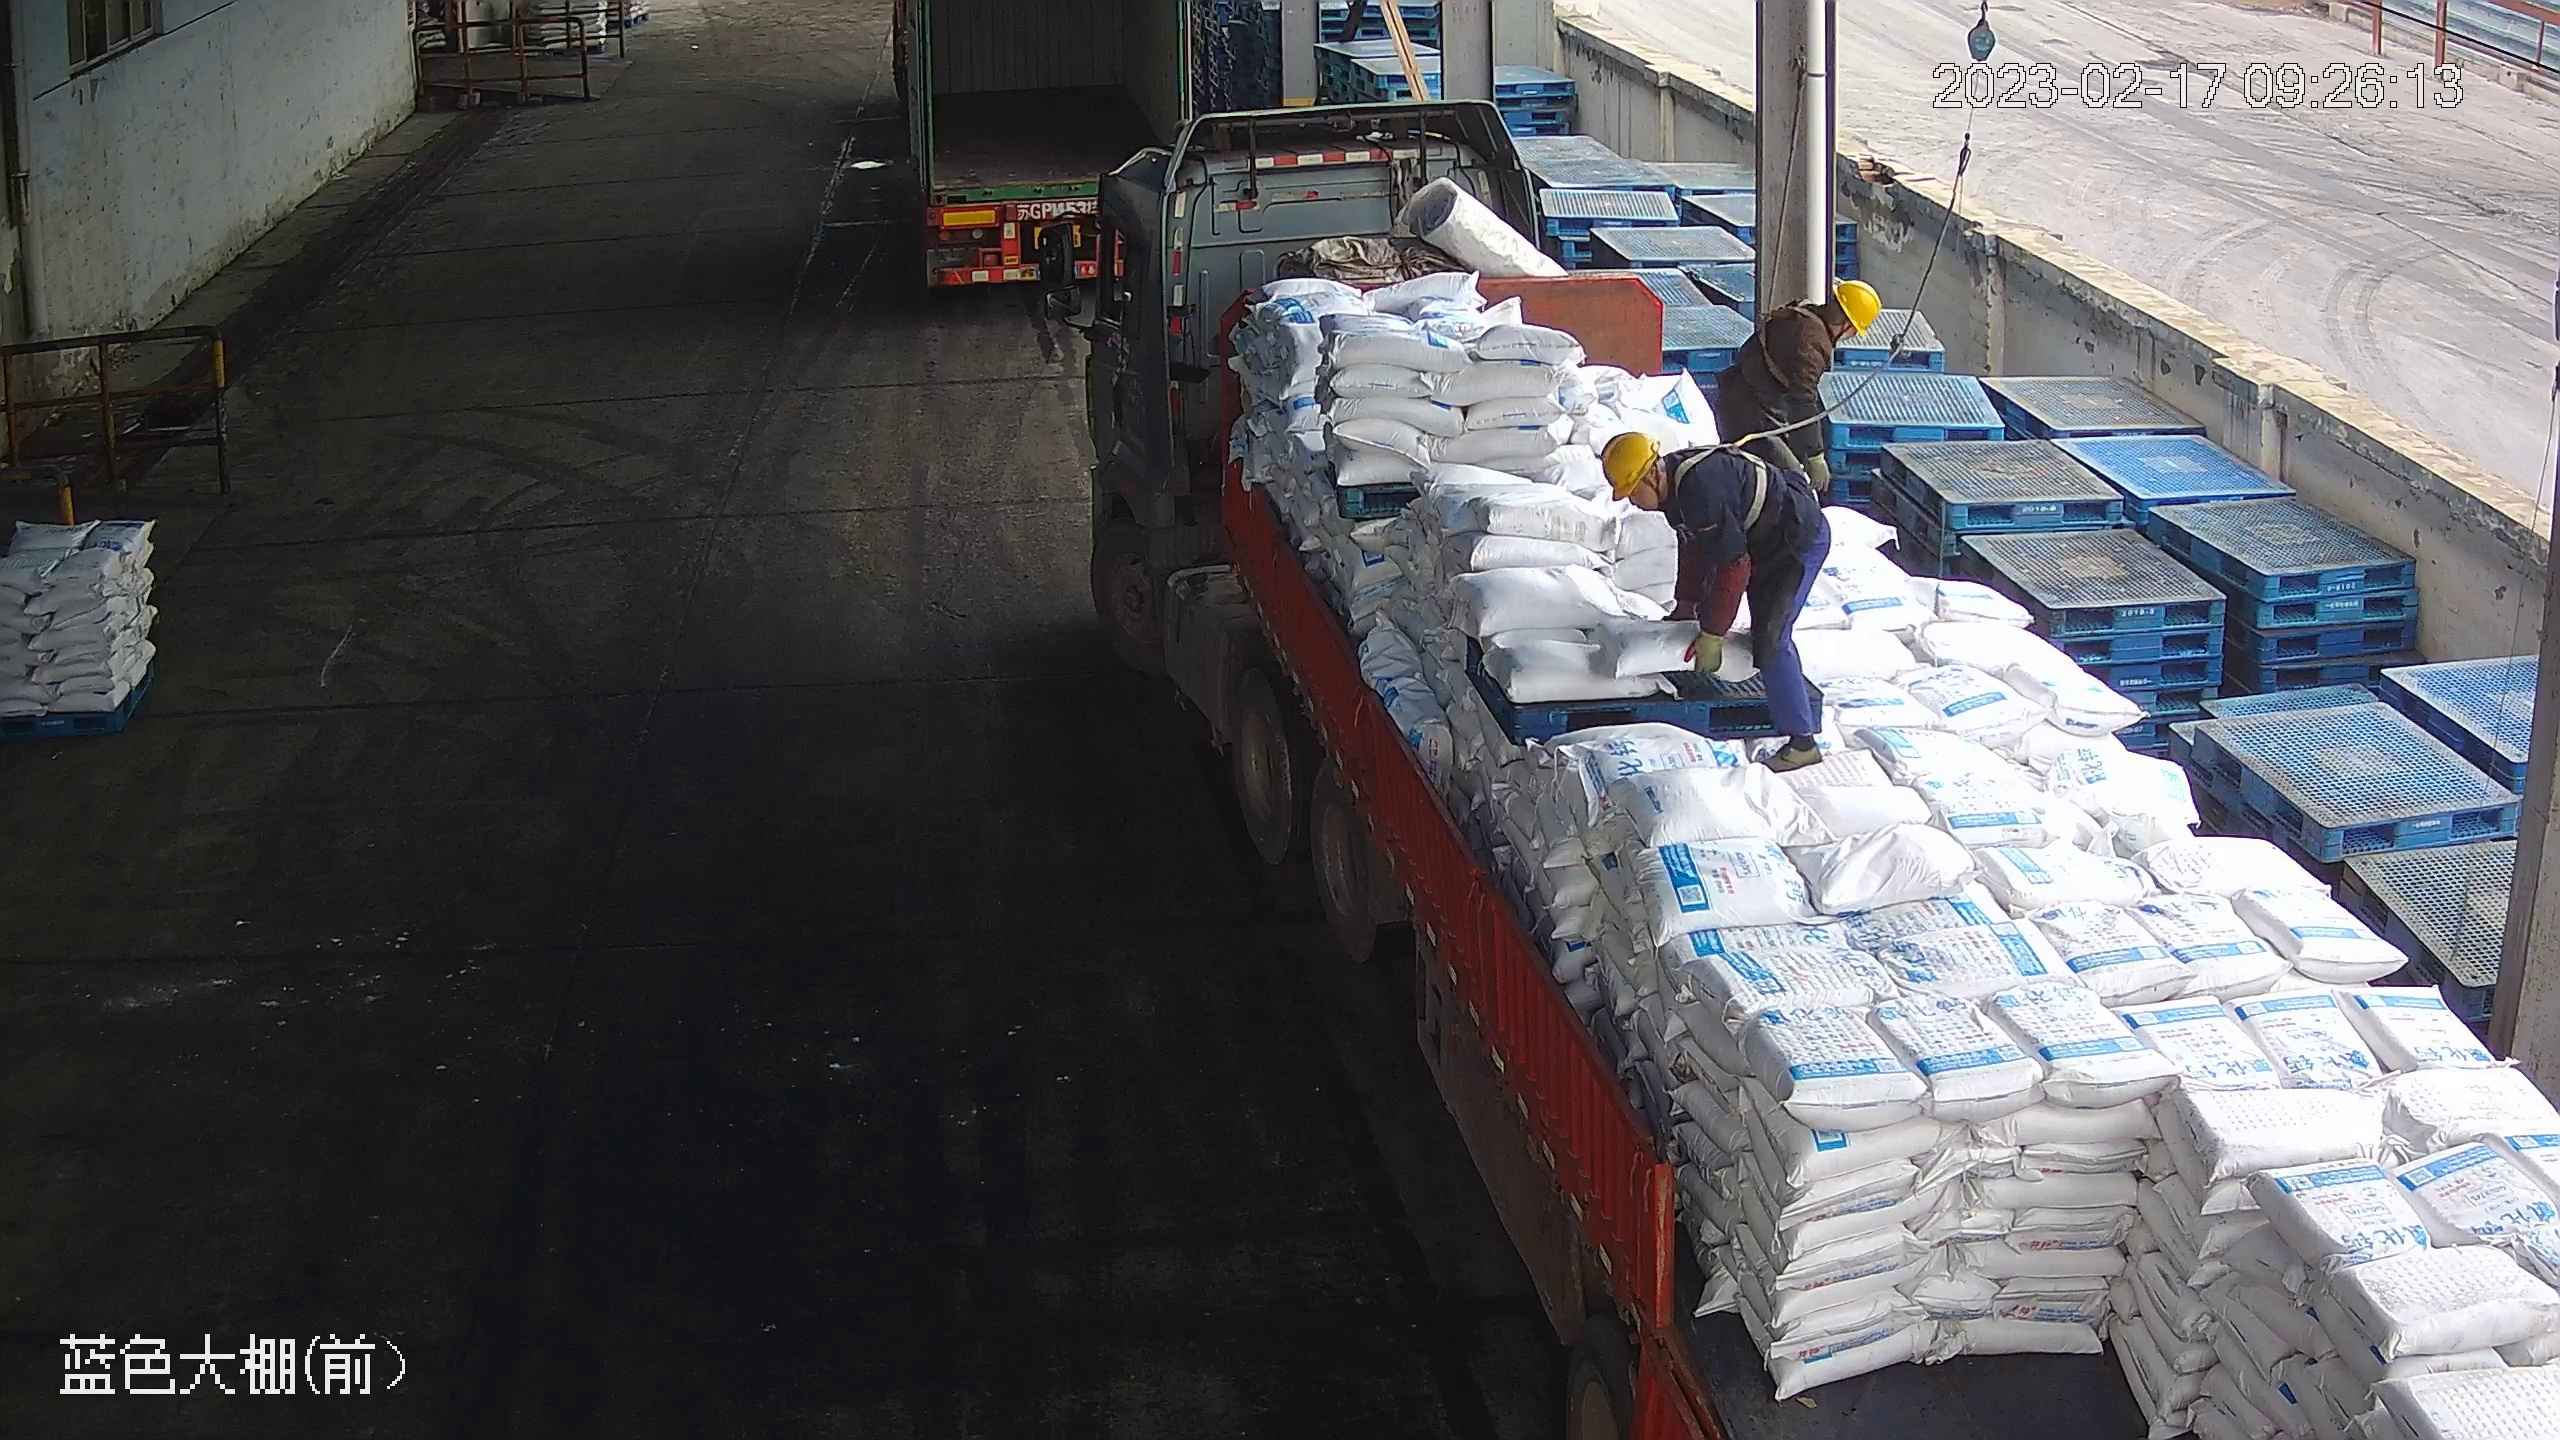belt: (1664, 427, 1779, 531), (1755, 302, 1831, 385)
head: (1590, 427, 1735, 526), (1775, 276, 1887, 374)
helmet: (1596, 428, 1659, 504), (1831, 276, 1881, 340)
people: (1598, 422, 1831, 776), (1712, 280, 1882, 530)
truck: (1047, 100, 2555, 1440), (886, 1, 1195, 293)
